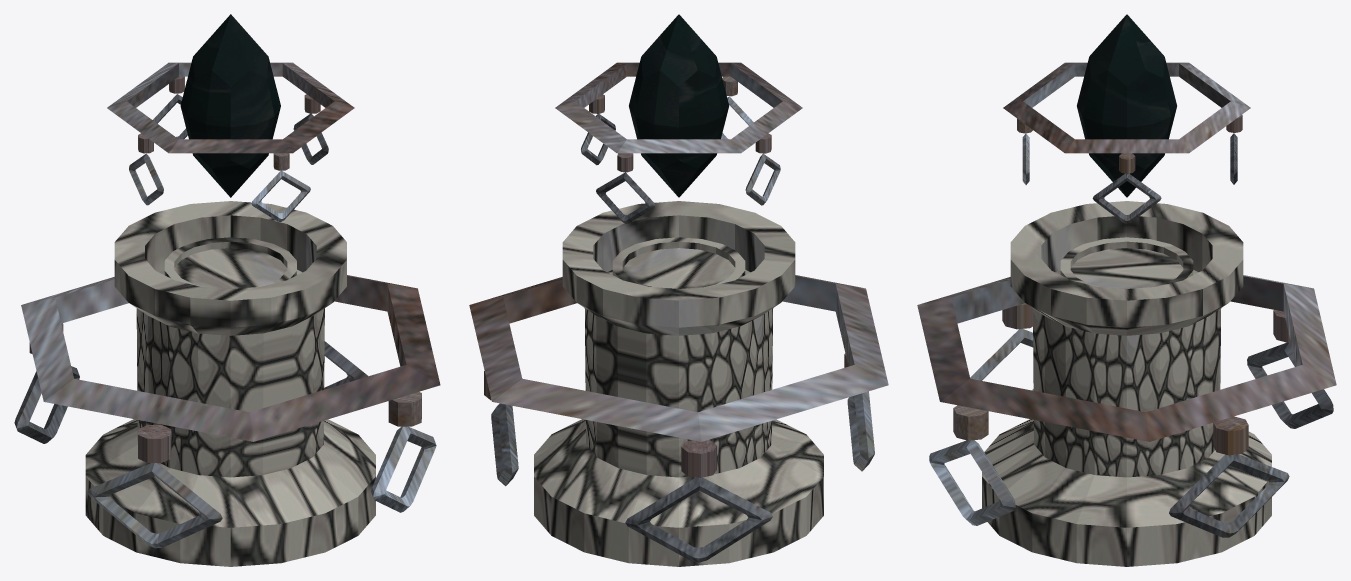
The model's file is mainGate.obj.
3 renders of one model, left to right at view 1: azimuth 30°, elevation 25°; view 2: azimuth 150°, elevation 25°; view 3: azimuth 270°, elevation 25°, orthographic.
Parts seen in each view (by area): view 1: Object001; view 2: Object001; view 3: Object001.
Boxes of the visible parts, <box> form: Object001: <box>14,14,440,566</box>; Object001: <box>469,14,888,566</box>; Object001: <box>917,14,1336,566</box>.
Size of the model in its own units: 288 by 340 by 263.
